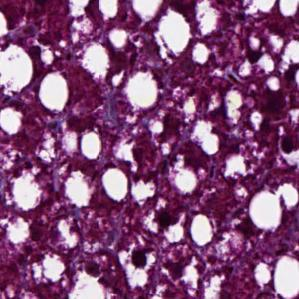steatosis: (100, 167, 132, 202)
